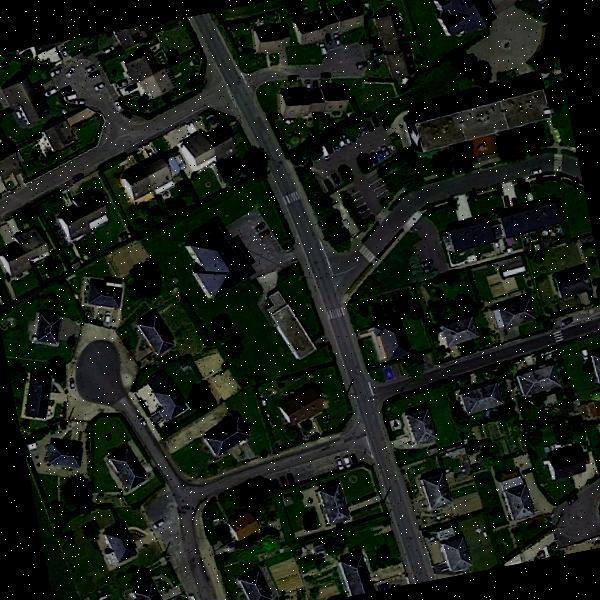Buildings: (412, 94, 553, 146), (444, 206, 568, 255), (182, 224, 256, 298), (370, 8, 429, 94), (434, 0, 536, 36), (58, 188, 120, 247), (282, 74, 355, 122), (270, 293, 316, 360), (0, 221, 53, 279), (178, 122, 238, 171), (118, 151, 178, 199), (454, 378, 520, 421), (315, 476, 358, 534), (121, 47, 173, 93), (295, 5, 363, 39), (0, 79, 50, 125), (42, 430, 92, 472), (542, 445, 594, 482), (334, 548, 372, 598), (21, 371, 56, 425), (28, 307, 70, 352), (280, 387, 324, 428), (132, 313, 176, 353), (102, 447, 148, 484), (46, 116, 84, 158), (554, 263, 594, 302), (401, 410, 441, 448), (102, 527, 142, 565), (425, 471, 458, 515), (442, 314, 490, 344), (367, 322, 408, 356), (492, 295, 534, 327), (200, 421, 246, 450), (252, 24, 290, 59), (442, 533, 471, 574), (236, 568, 272, 600), (518, 369, 559, 395), (224, 508, 255, 542), (90, 278, 115, 310), (0, 134, 15, 184), (127, 582, 165, 600), (590, 344, 600, 388)
